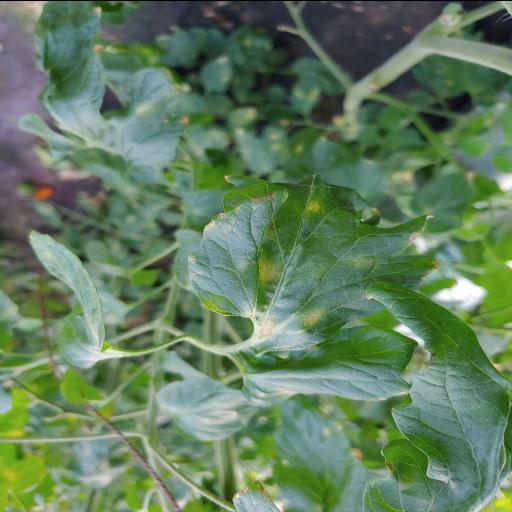Leaf Mold: (187, 172, 437, 350)
